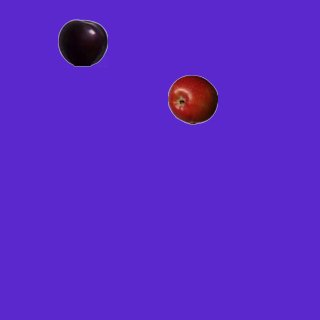Apple Braeburn: (167, 74, 217, 124)
Cherry Wax Black: (57, 17, 107, 67)
